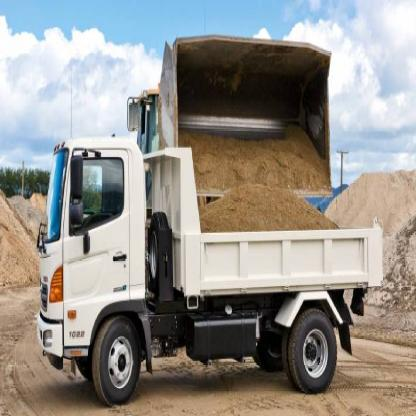dump_truck: (29, 123, 394, 406)
